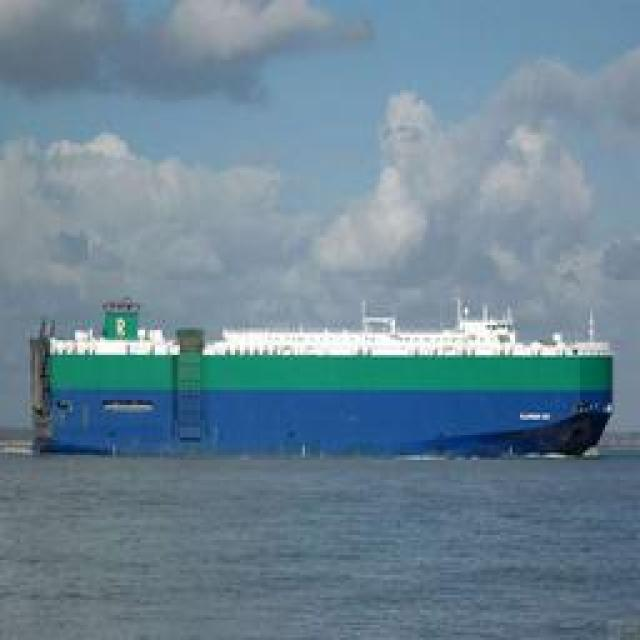CIV_Ship: (42, 321, 612, 454)
